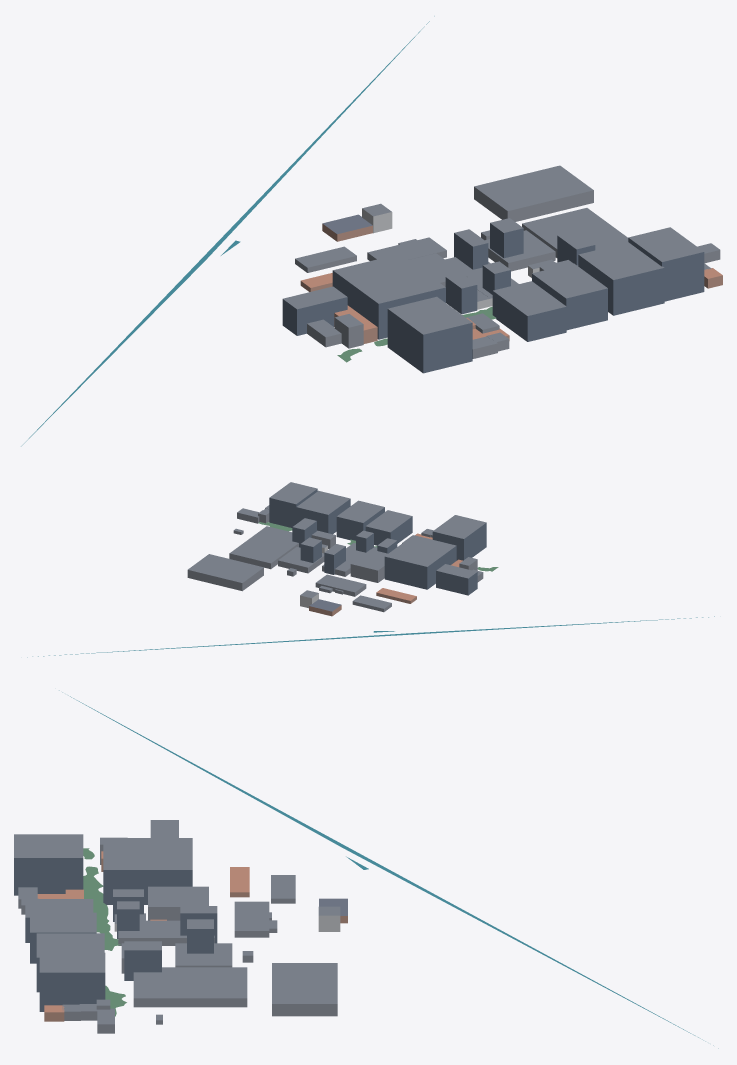
File: tile_1_5_lod1.glb
3 renders of one model, top to bottom at view 1: azimuth 30°, elevation 25°; view 2: azimuth 150°, elevation 25°; view 3: azimuth 270°, elevation 25°, orthographic. The views are drawn at different scales.
Visible parts, largest first — view 1: TileRoot; view 2: TileRoot; view 3: TileRoot.
Boxes of the visible parts, box(x1,y1,x2,y2) form: TileRoot: box(21, 16, 722, 446); TileRoot: box(27, 482, 714, 657); TileRoot: box(14, 690, 718, 1048).
Bounding box in the file's own units: 824 × 41.55 × 678.
